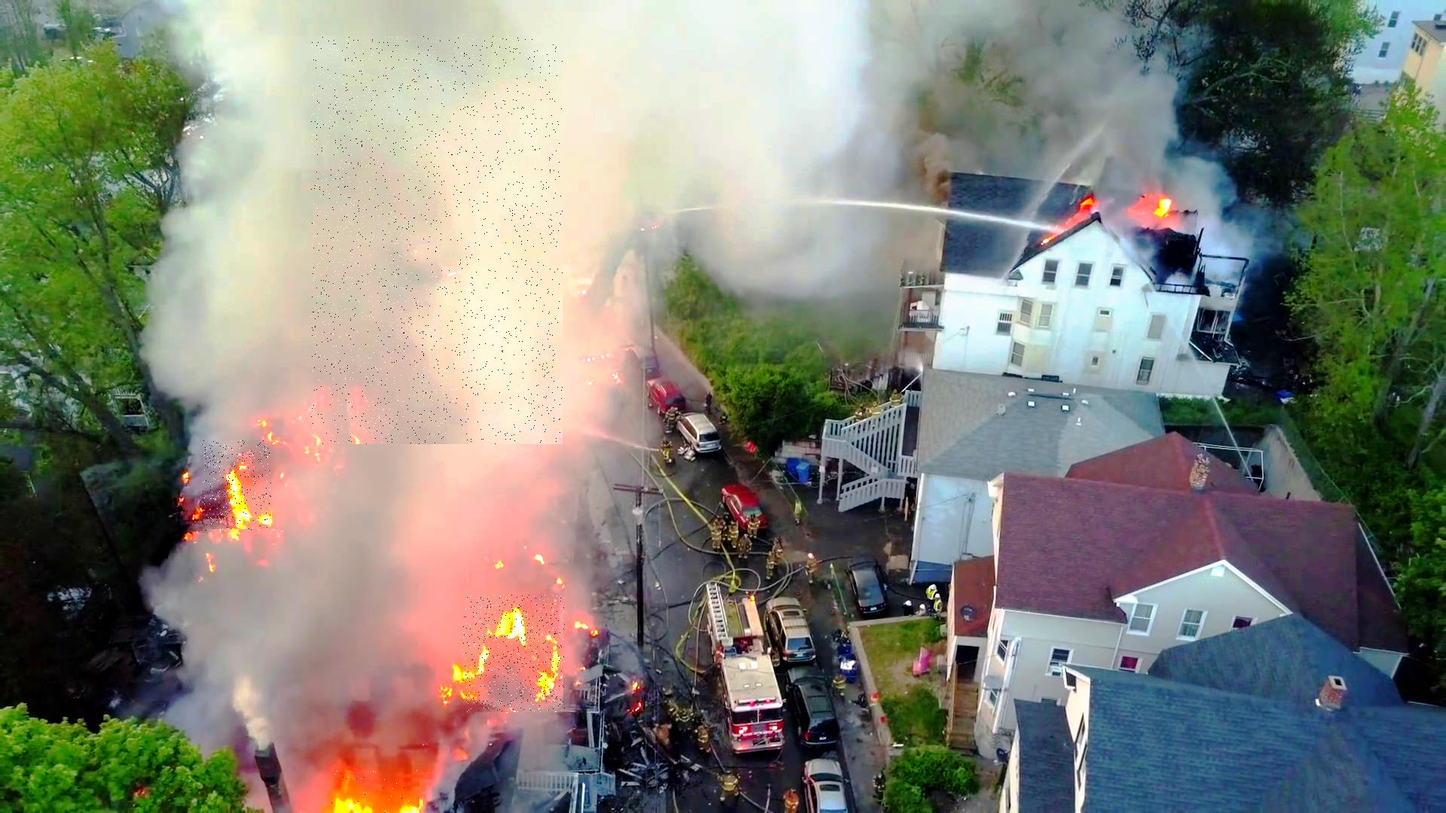fire: (464, 595, 565, 712), (203, 441, 271, 531), (322, 770, 420, 813)
smoke: (311, 36, 563, 444)
